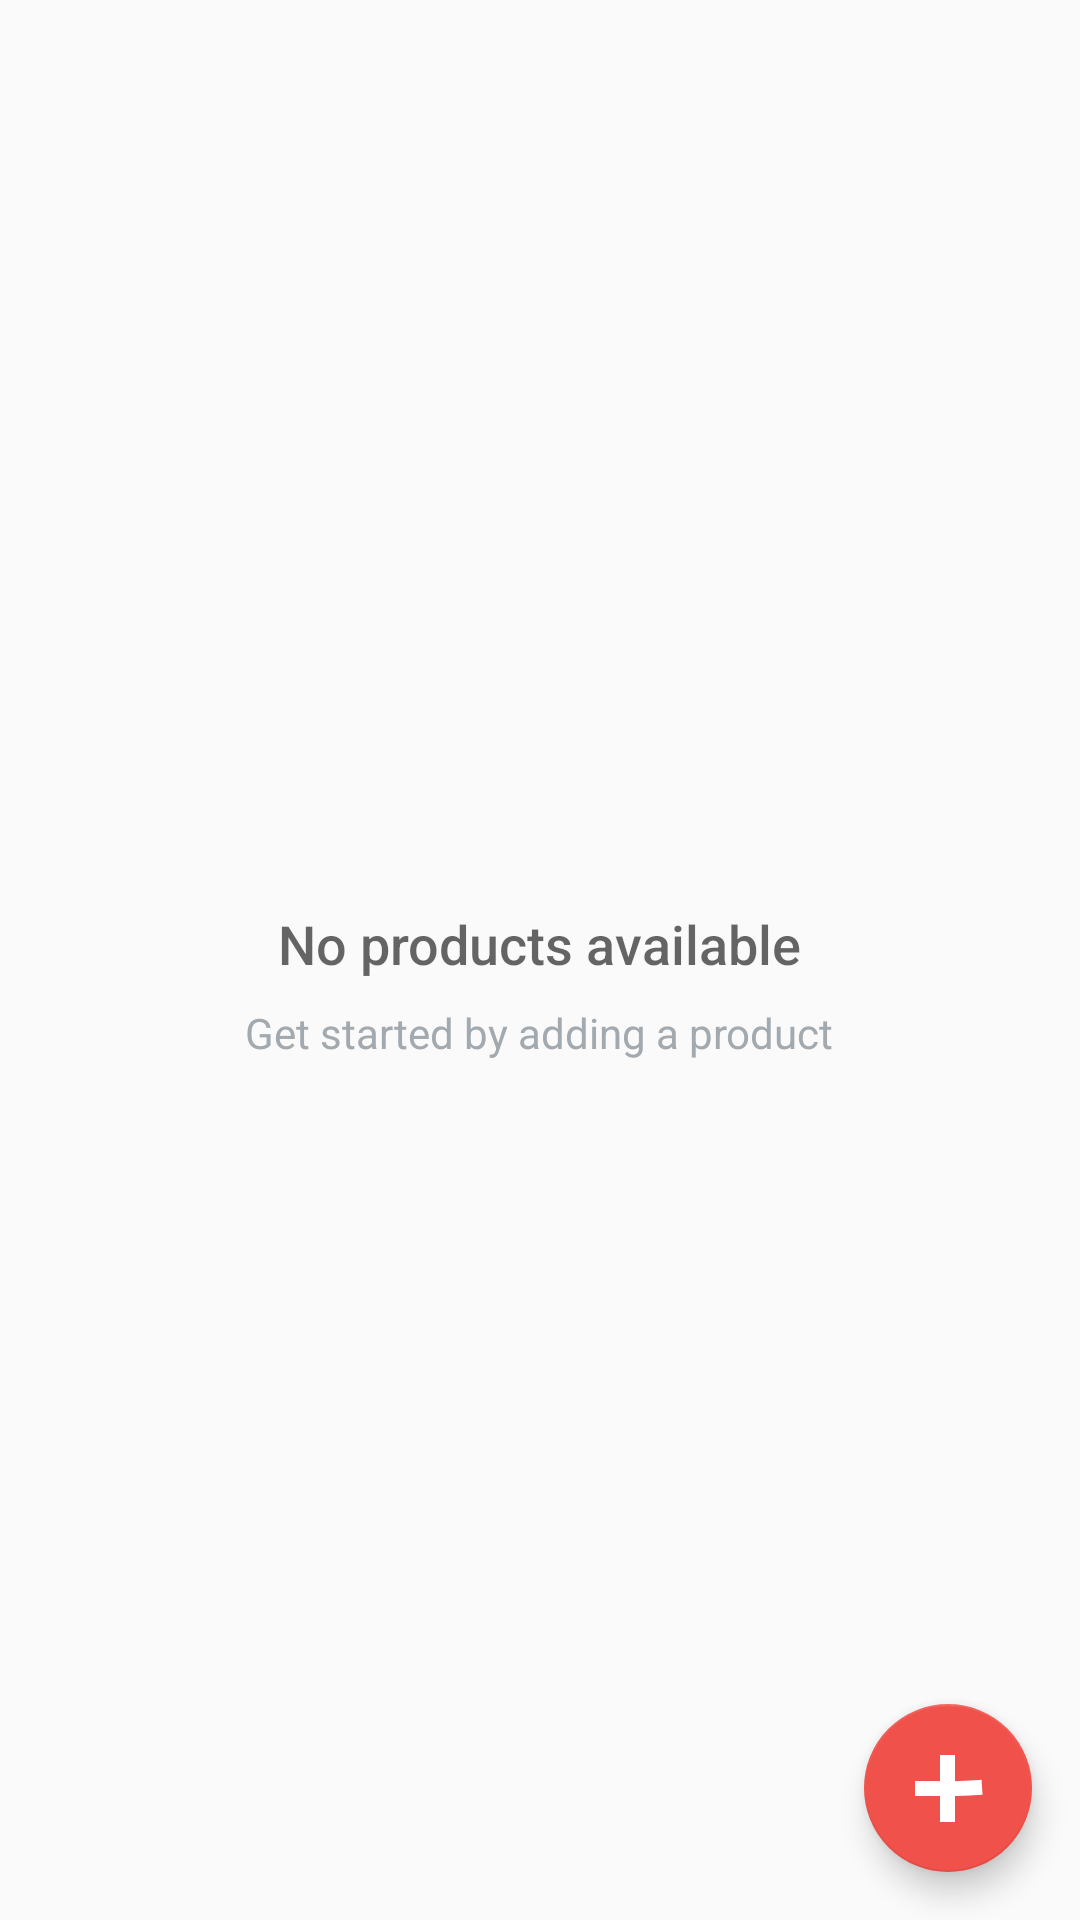

Icon bounding boxes for this 1080x1920 phone screenshot, format {"x1": x1, "y1": y1, "x2": x2, "y2": y2}:
add pet: {"x1": 864, "y1": 1704, "x2": 1032, "y2": 1872}
